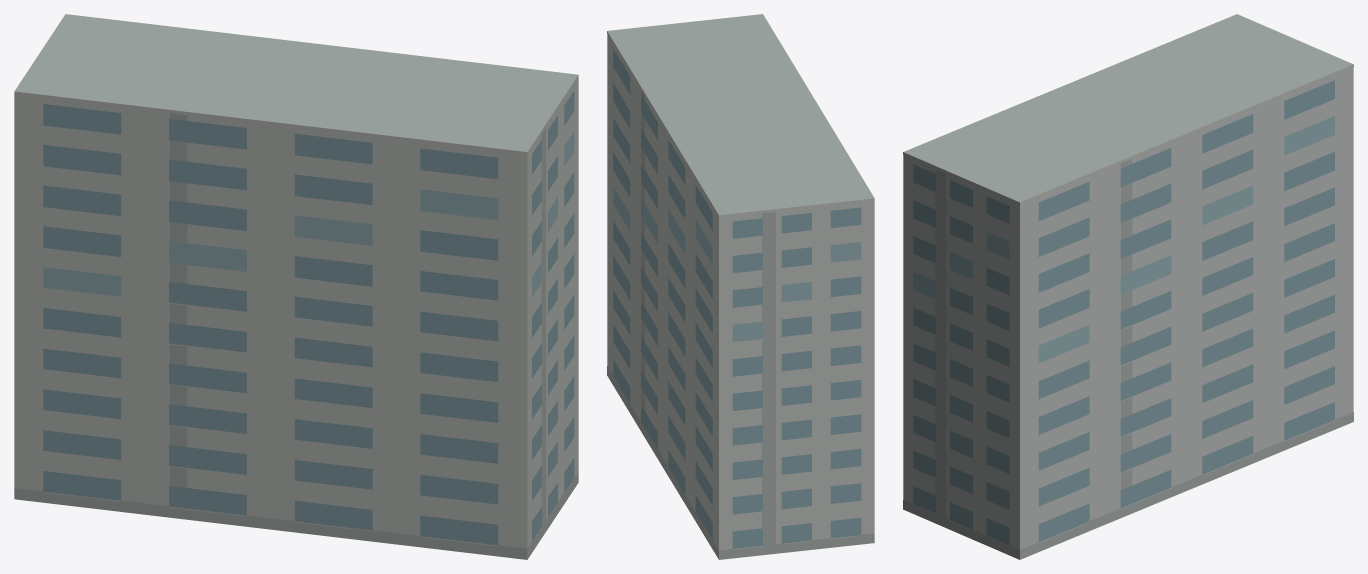
File: residential-4e5ecf3d-8b59-43d2-ae2b-809c690530d3.glb
The picture shows the model from 3 angles, left to right: view 1: azimuth 30°, elevation 25°; view 2: azimuth 150°, elevation 25°; view 3: azimuth 270°, elevation 25°; orthographic projection. The views are drawn at different scales.
Visible parts, largest first — view 1: residential-4e5ecf3d-8b59-43d2-ae2b-809c690530d3.tmp; view 2: residential-4e5ecf3d-8b59-43d2-ae2b-809c690530d3.tmp; view 3: residential-4e5ecf3d-8b59-43d2-ae2b-809c690530d3.tmp.
Boxes of the visible parts, x1=… form: residential-4e5ecf3d-8b59-43d2-ae2b-809c690530d3.tmp: x1=14, y1=14, x2=578, y2=559; residential-4e5ecf3d-8b59-43d2-ae2b-809c690530d3.tmp: x1=607, y1=14, x2=874, y2=559; residential-4e5ecf3d-8b59-43d2-ae2b-809c690530d3.tmp: x1=903, y1=14, x2=1353, y2=559.
Size of the model in its own units: 33.91 by 30 by 34.27.
